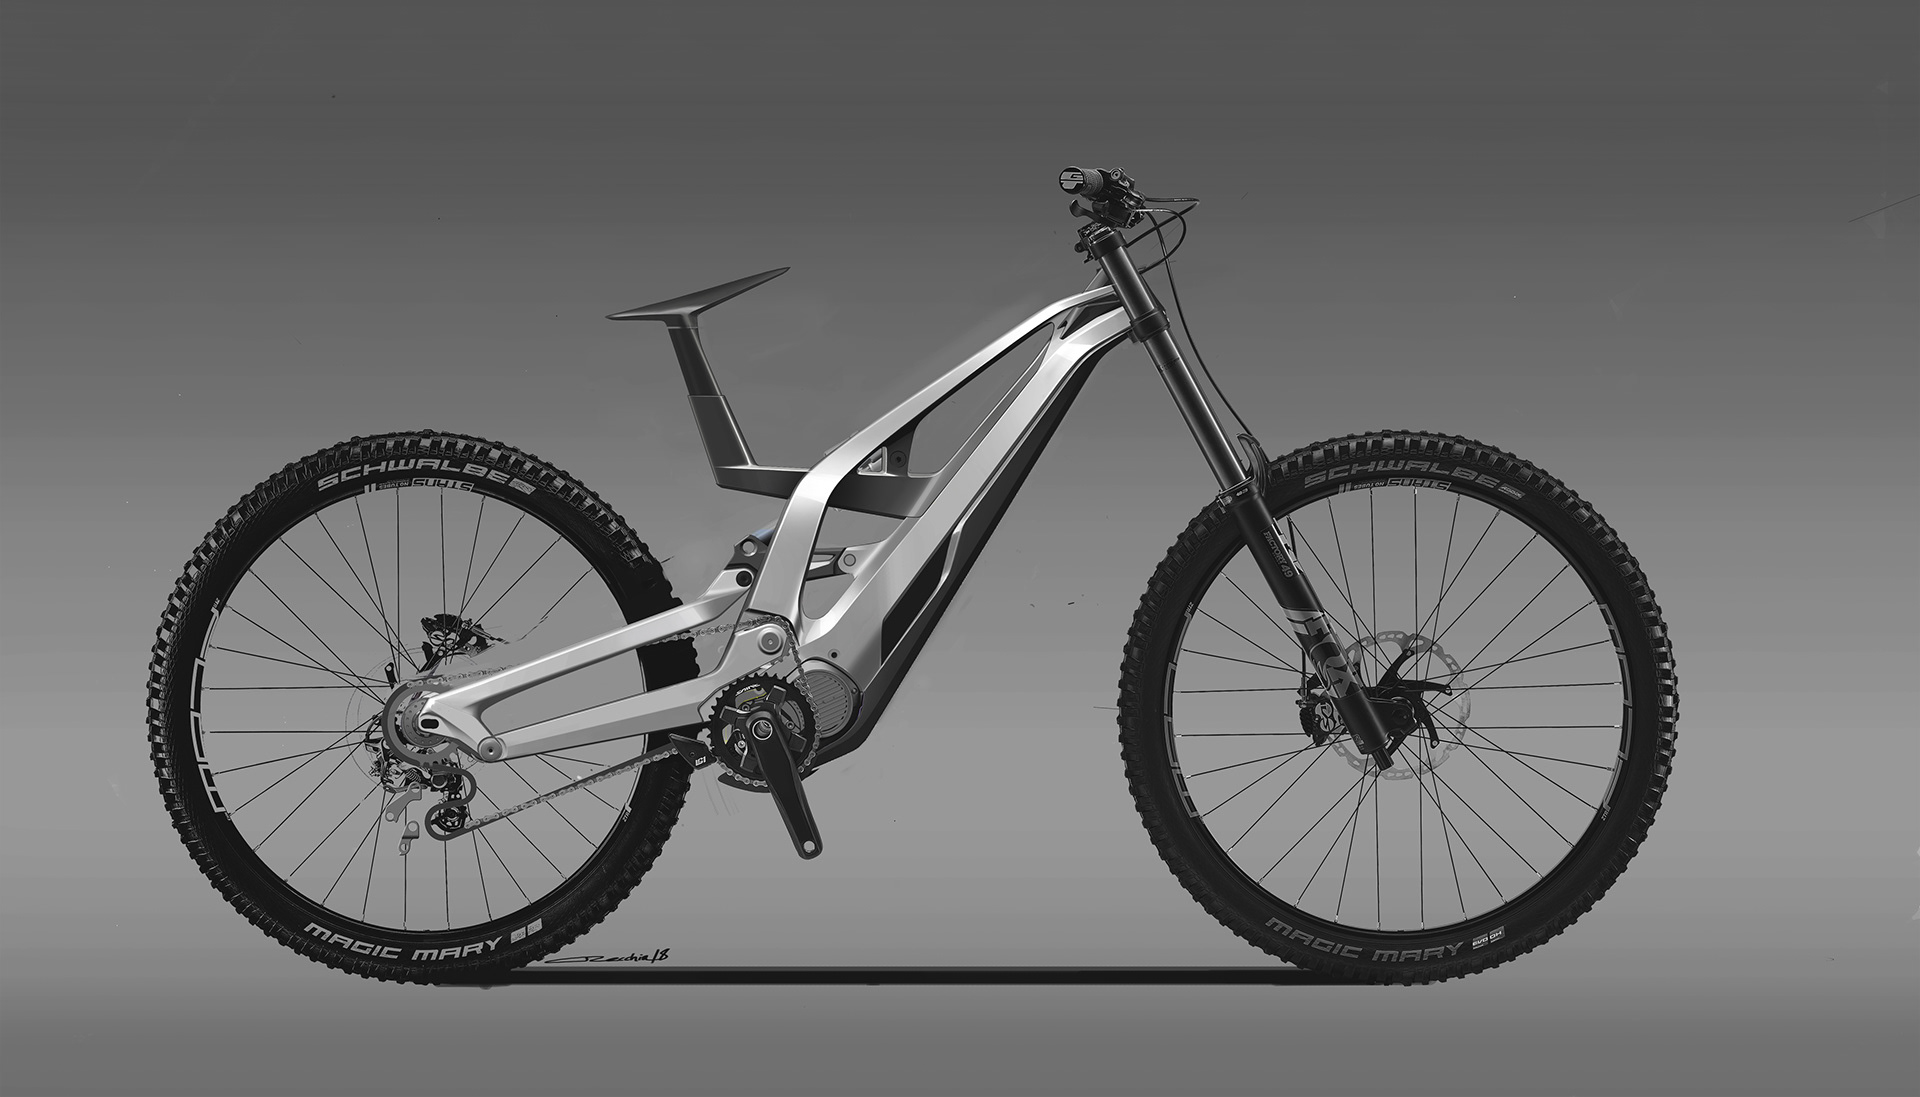MNV: (148, 167, 1677, 977)
